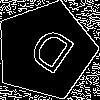D: (20, 26, 78, 83)
